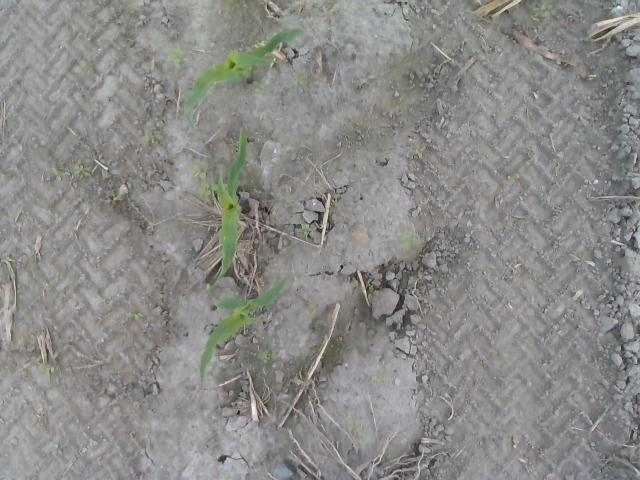Maize: (185, 26, 308, 132), (198, 274, 292, 390), (208, 125, 251, 292)
Weeds: (339, 412, 368, 449), (49, 164, 91, 184), (28, 352, 58, 378), (532, 4, 556, 24), (197, 182, 222, 198), (401, 234, 424, 250), (171, 44, 185, 68), (190, 164, 208, 182), (297, 224, 317, 238), (30, 412, 46, 429), (144, 132, 164, 145), (263, 350, 280, 363), (124, 312, 145, 322), (373, 374, 390, 386), (102, 196, 122, 206), (503, 166, 516, 180), (291, 74, 306, 86), (46, 445, 58, 458), (80, 61, 92, 74), (476, 198, 490, 208), (415, 145, 425, 156), (492, 348, 500, 358), (460, 152, 468, 161), (381, 12, 388, 22), (306, 306, 314, 314), (254, 82, 262, 90), (220, 475, 230, 480), (368, 284, 374, 292)
